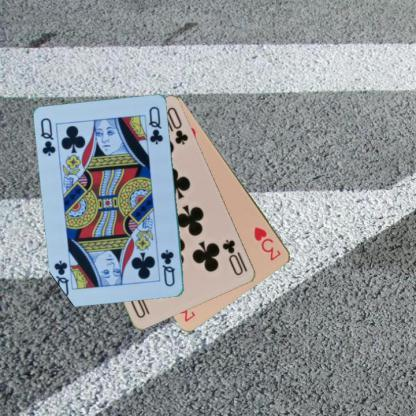10c: (220, 237, 245, 277)
3h: (252, 224, 283, 262)
Qc: (38, 115, 57, 158), (158, 248, 177, 288)
